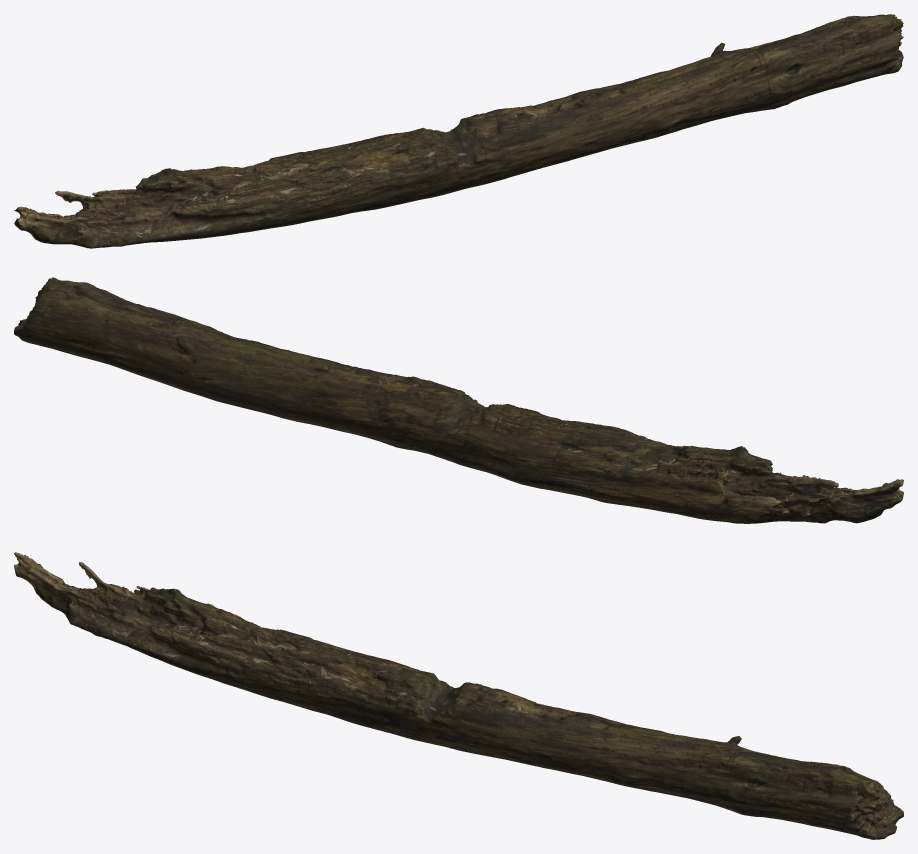
The model's file is dead_tree_trunk.glb.
The picture shows the model from 3 angles, top to bottom: view 1: azimuth 30°, elevation 25°; view 2: azimuth 150°, elevation 25°; view 3: azimuth 330°, elevation 25°; orthographic projection.
Parts seen in each view (by area): view 1: dead_tree_trunk; view 2: dead_tree_trunk; view 3: dead_tree_trunk.
Boxes of the visible parts, bbox=[...] form: dead_tree_trunk: bbox=[14, 14, 903, 248]; dead_tree_trunk: bbox=[14, 277, 903, 523]; dead_tree_trunk: bbox=[14, 552, 903, 839].
Bounding box in the file's own units: 3.05 × 0.2905 × 0.2775.
1 material, 1 textured.
